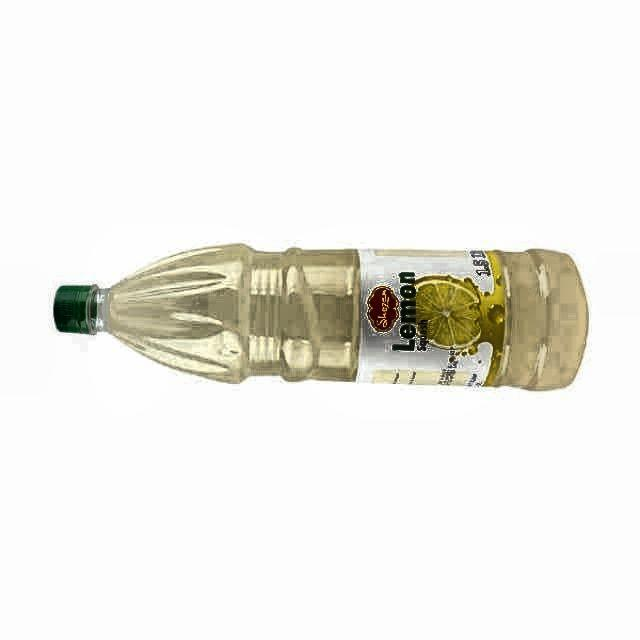plastic: (54, 244, 588, 389)
